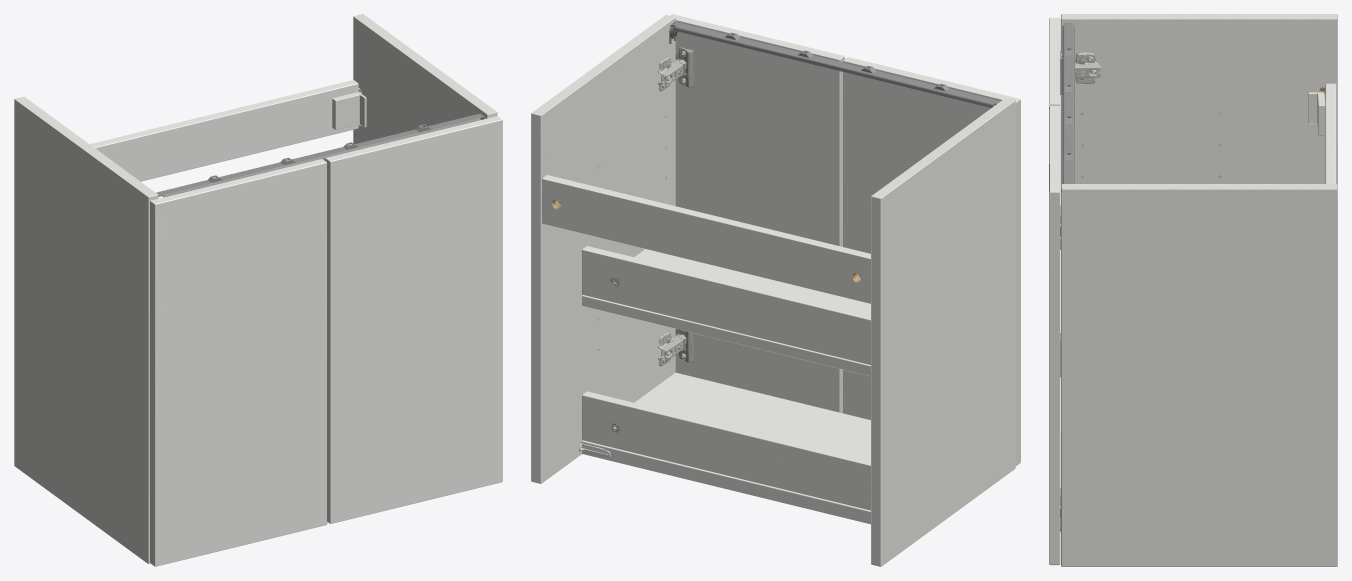
Rendered from enhet_szafka_umywalkowa_z_drzwiami_70623057.glb.
The picture shows the model from 3 angles, left to right: view 1: azimuth 30°, elevation 25°; view 2: azimuth 150°, elevation 25°; view 3: azimuth 270°, elevation 25°; orthographic projection. The views are drawn at different scales.
Visible parts, largest first — view 1: enhet_szafka_umywalkowa_z_drzwiami_70623057; view 2: enhet_szafka_umywalkowa_z_drzwiami_70623057; view 3: enhet_szafka_umywalkowa_z_drzwiami_70623057.
Boxes of the visible parts, <box> form: enhet_szafka_umywalkowa_z_drzwiami_70623057: <box>14,14,502,566</box>; enhet_szafka_umywalkowa_z_drzwiami_70623057: <box>531,14,1020,566</box>; enhet_szafka_umywalkowa_z_drzwiami_70623057: <box>1049,14,1337,566</box>.
Bounding box in the file's own units: 0.6 × 0.603 × 0.4174.
1 material, 1 textured.
